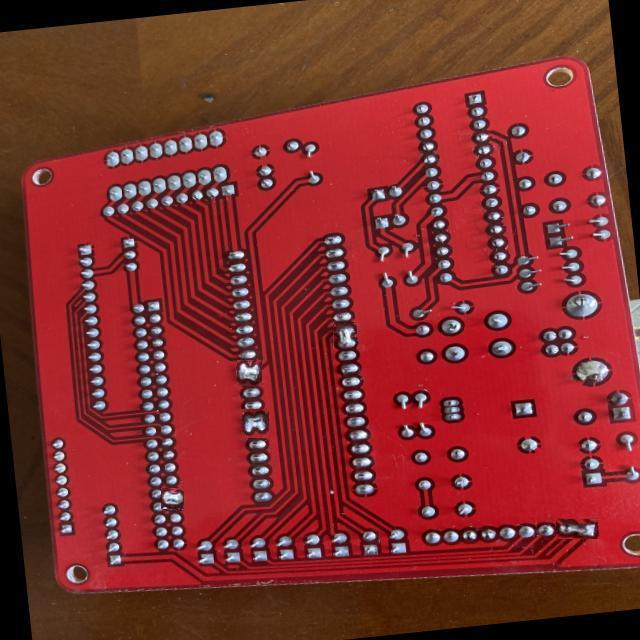damged: (555, 518, 598, 539), (241, 409, 270, 438), (236, 361, 262, 386), (333, 322, 357, 349), (161, 488, 184, 510)
